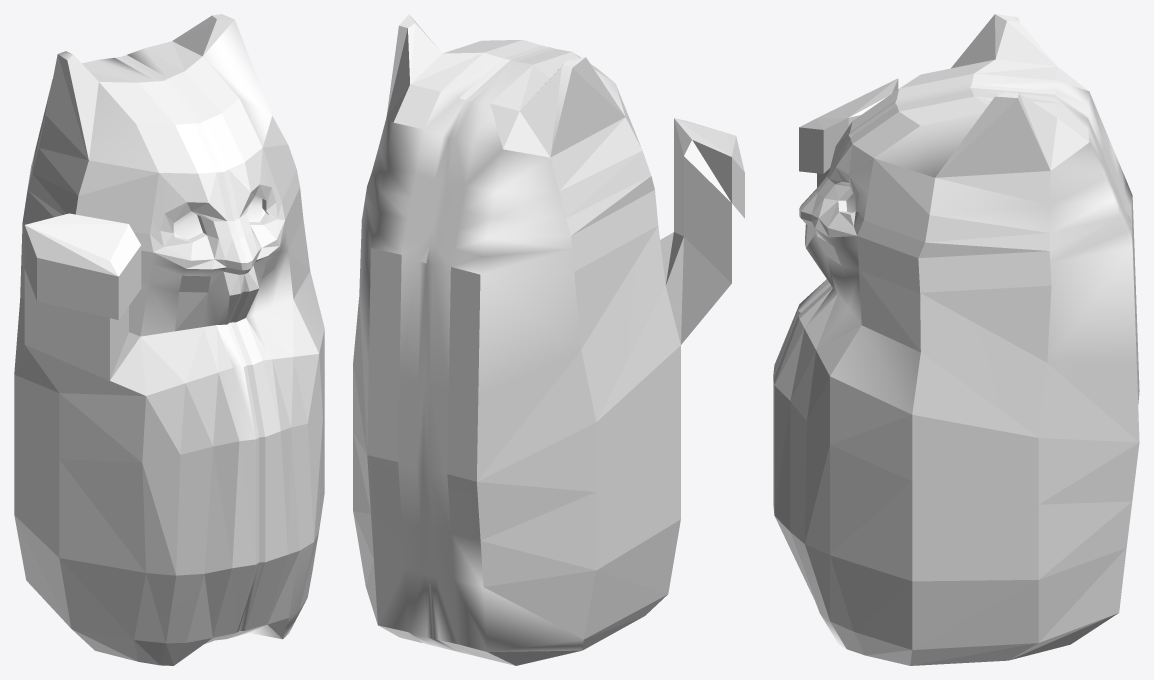
Rendered from Meshy_AI_manekineko03_0729110944_auto-uv.fbx.
3 renders of one model, left to right at view 1: azimuth 30°, elevation 25°; view 2: azimuth 150°, elevation 25°; view 3: azimuth 270°, elevation 25°, orthographic. The views are drawn at different scales.
Parts seen in each view (by area): view 1: Plane003; view 2: Plane003; view 3: Plane003.
Part boxes in pixels (<box>): Plane003: <box>14,14,324,665</box>; Plane003: <box>353,14,744,665</box>; Plane003: <box>773,14,1139,665</box>.
Size of the model in its own units: 115 by 200 by 118.
1 material, 1 textured.
